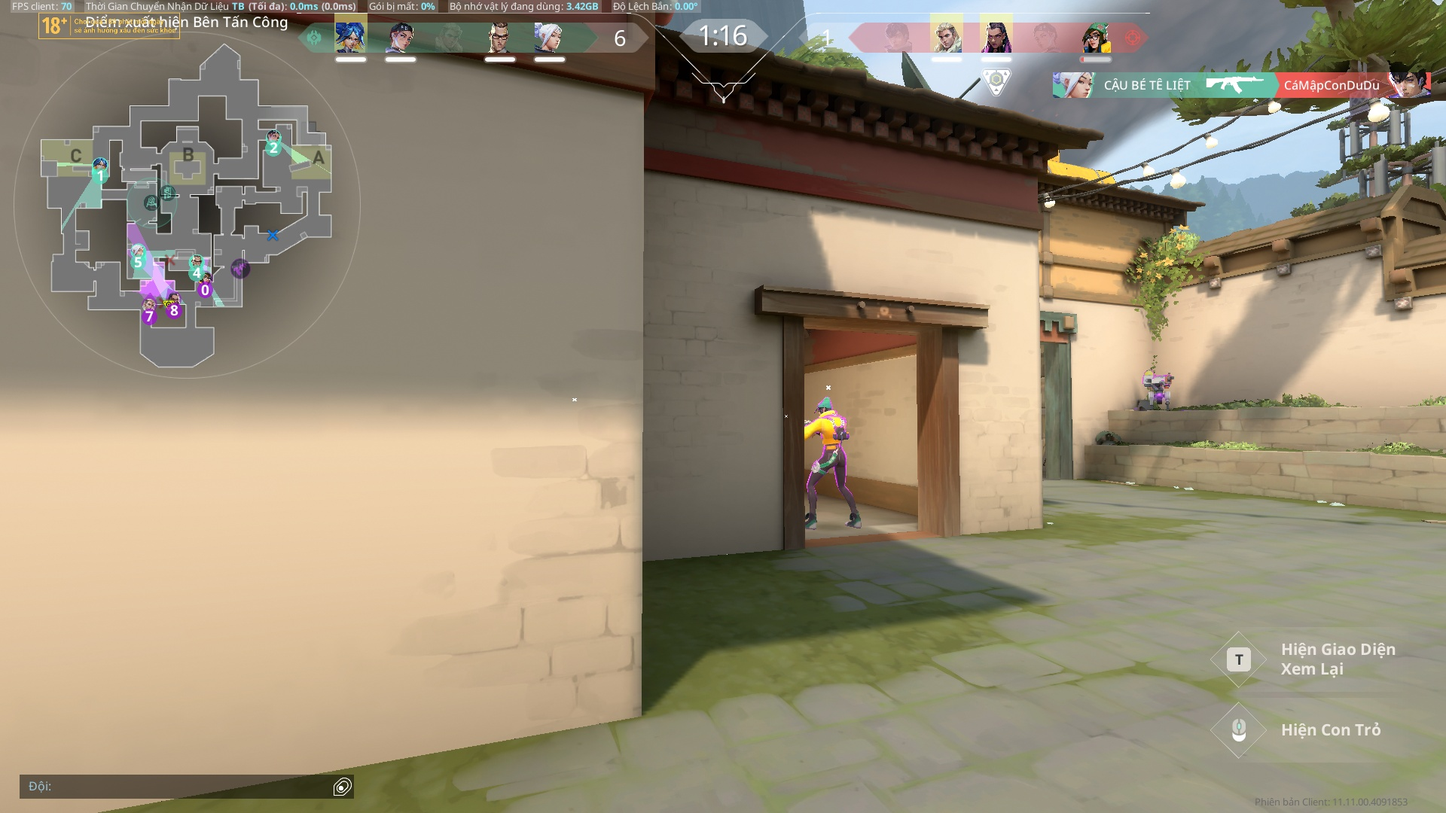body: (817, 411, 848, 445)
head: (816, 398, 833, 416)
